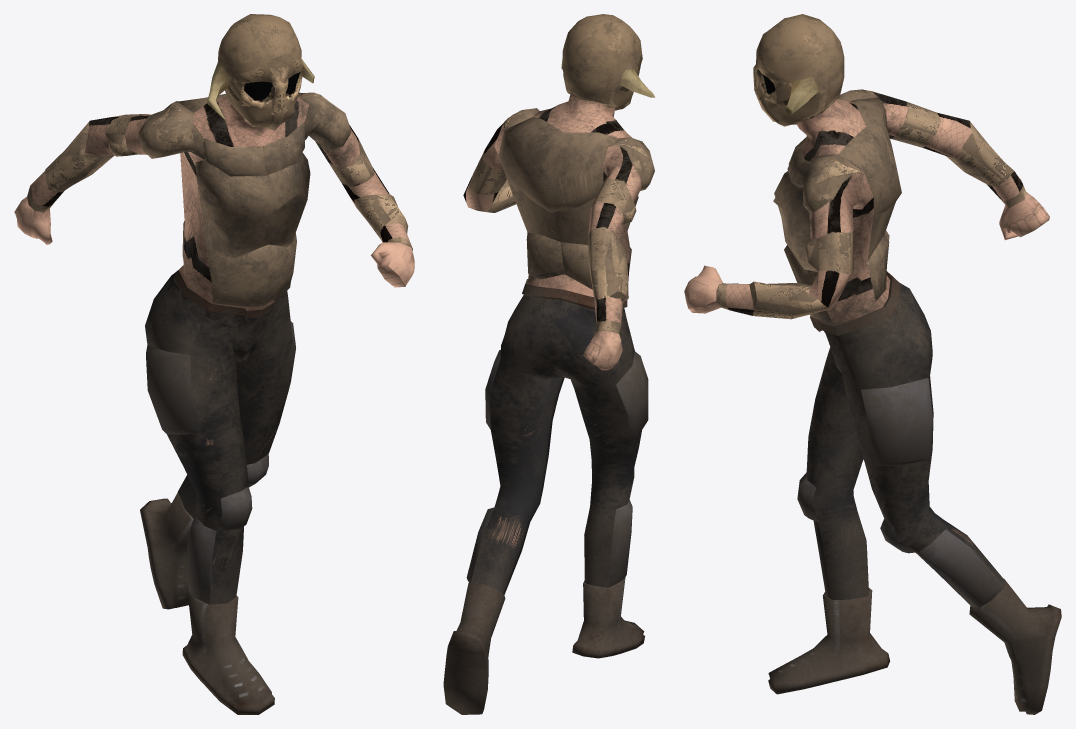
Rendered from Anim_correr_npc1.0031.obj.
The picture shows the model from 3 angles, left to right: view 1: azimuth 30°, elevation 25°; view 2: azimuth 150°, elevation 25°; view 3: azimuth 270°, elevation 25°; orthographic projection. The views are drawn at different scales.
Parts seen in each view (by area): view 1: Anim_correr_npc1; view 2: Anim_correr_npc1; view 3: Anim_correr_npc1.
Boxes of the visible parts, x1,y1,x2,y2 form: Anim_correr_npc1: (14,14,414,714); Anim_correr_npc1: (443,14,655,714); Anim_correr_npc1: (684,14,1061,714).
Bounding box in the file's own units: 3.97 × 9.6 × 4.84.
